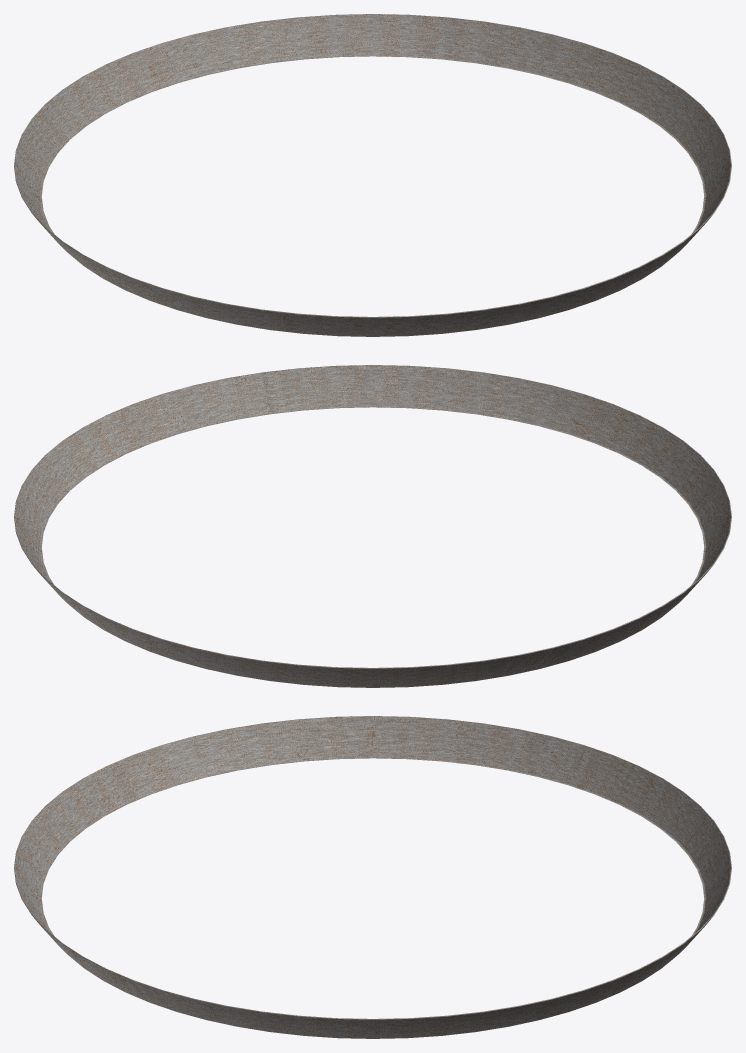
The model's file is original-35.obj.
The picture shows the model from 3 angles, top to bottom: view 1: azimuth 30°, elevation 25°; view 2: azimuth 150°, elevation 25°; view 3: azimuth 270°, elevation 25°; orthographic projection.
Parts seen in each view (by area): view 1: #ID187; view 2: #ID187; view 3: #ID187.
Part boxes in pixels (x1,y1,x2,y2): #ID187: (14, 14, 731, 336); #ID187: (14, 365, 731, 687); #ID187: (14, 716, 731, 1038).
Size of the model in its own units: 1.49 by 0.0704 by 1.49.
2 materials, 1 textured.
